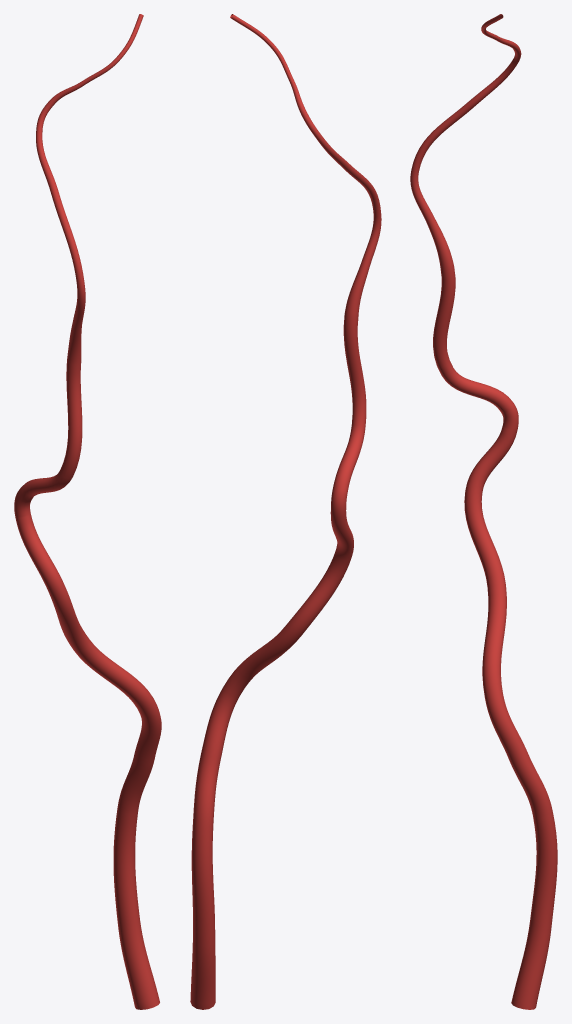
The picture shows the model from 3 angles, left to right: view 1: azimuth 30°, elevation 25°; view 2: azimuth 150°, elevation 25°; view 3: azimuth 270°, elevation 25°; orthographic projection. The views are drawn at different scales.
Visible parts, largest first — view 1: 左侧枕内侧动脉; view 2: 左侧枕内侧动脉; view 3: 左侧枕内侧动脉.
Boxes of the visible parts, bbox=[...] form: 左侧枕内侧动脉: bbox=[14, 14, 161, 1009]; 左侧枕内侧动脉: bbox=[190, 14, 381, 1009]; 左侧枕内侧动脉: bbox=[410, 14, 557, 1009].
Bounding box in the file's own units: 0.0158 × 0.1015 × 0.0138.
